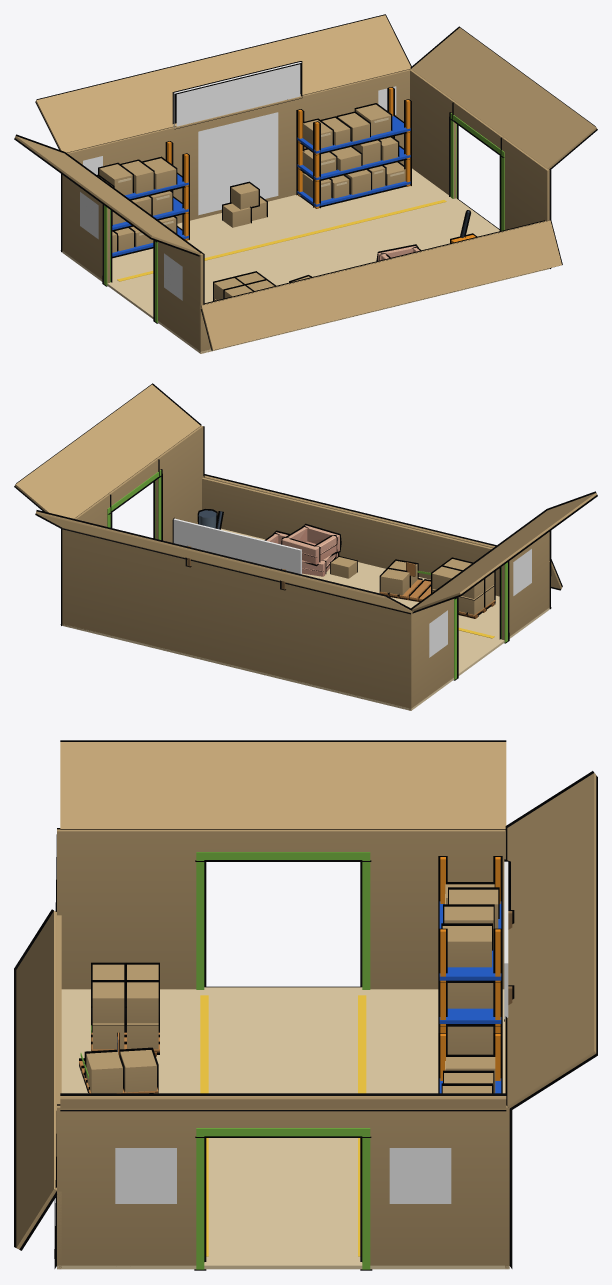
Rendered from BR_Box_Lager.glb.
3 renders of one model, top to bottom at view 1: azimuth 30°, elevation 25°; view 2: azimuth 150°, elevation 25°; view 3: azimuth 270°, elevation 25°, orthographic. The views are drawn at different scales.
Visible parts, largest first — view 1: BR_Box_Lager_Mesh, BR_Box_Lager_Outline; view 2: BR_Box_Lager_Mesh, BR_Box_Lager_Outline, Prop_Kiste; view 3: BR_Box_Lager_Mesh, BR_Box_Lager_Outline.
Boxes of the visible parts, x1,y1,x2,y2 form: BR_Box_Lager_Mesh: (15, 15, 596, 353); BR_Box_Lager_Outline: (14, 14, 597, 350); BR_Box_Lager_Mesh: (15, 384, 596, 710); BR_Box_Lager_Outline: (14, 383, 597, 680); Prop_Kiste: (330, 557, 357, 578); BR_Box_Lager_Mesh: (16, 742, 596, 1269); BR_Box_Lager_Outline: (14, 740, 597, 1270).
Bounding box in the file's own units: 12.31 × 3.58 × 8.52.
